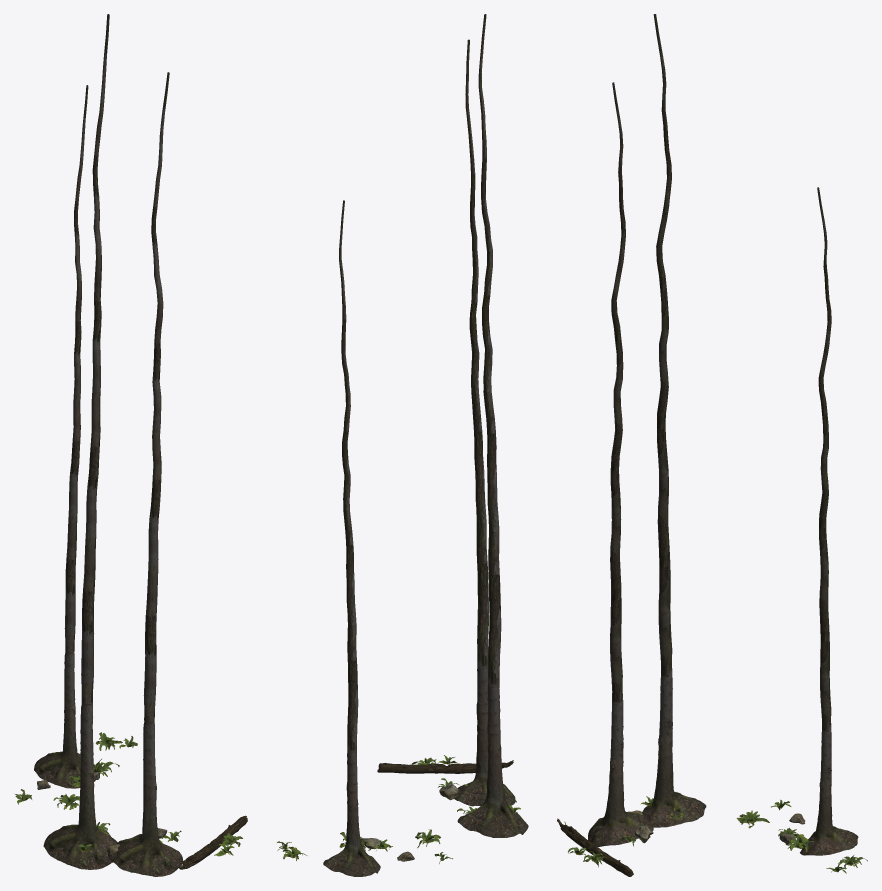
3 renders of one model, left to right at view 1: azimuth 30°, elevation 25°; view 2: azimuth 150°, elevation 25°; view 3: azimuth 270°, elevation 25°, orthographic. The views are drawn at different scales.
Visible parts, largest first — view 1: pine-trunk-3, pine-trunk-2, pine-trunk-1, fallen-dead-tree; view 2: pine-trunk-3, pine-trunk-2, pine-trunk-1, fallen-dead-tree; view 3: pine-trunk-3, pine-trunk-2, pine-trunk-1, fallen-dead-tree.
Part boxes in pixels (x1=…): pine-trunk-3: x1=43, y1=14, x2=117, y2=869; pine-trunk-2: x1=108, y1=72, x2=182, y2=876; pine-trunk-1: x1=34, y1=85, x2=88, y2=788; fallen-dead-tree: x1=179, y1=815, x2=247, y2=869; pine-trunk-3: x1=457, y1=14, x2=528, y2=837; pine-trunk-2: x1=454, y1=39, x2=516, y2=806; pine-trunk-1: x1=323, y1=200, x2=380, y2=876; fallen-dead-tree: x1=377, y1=760, x2=513, y2=773; pine-trunk-3: x1=642, y1=14, x2=706, y2=827; pine-trunk-2: x1=588, y1=82, x2=653, y2=846; pine-trunk-1: x1=800, y1=187, x2=858, y2=855; fallen-dead-tree: x1=557, y1=818, x2=633, y2=876.
Size of the model in its own units: 3.72 by 17.19 by 5.93.
Materials: 4 (4 with a texture image).
